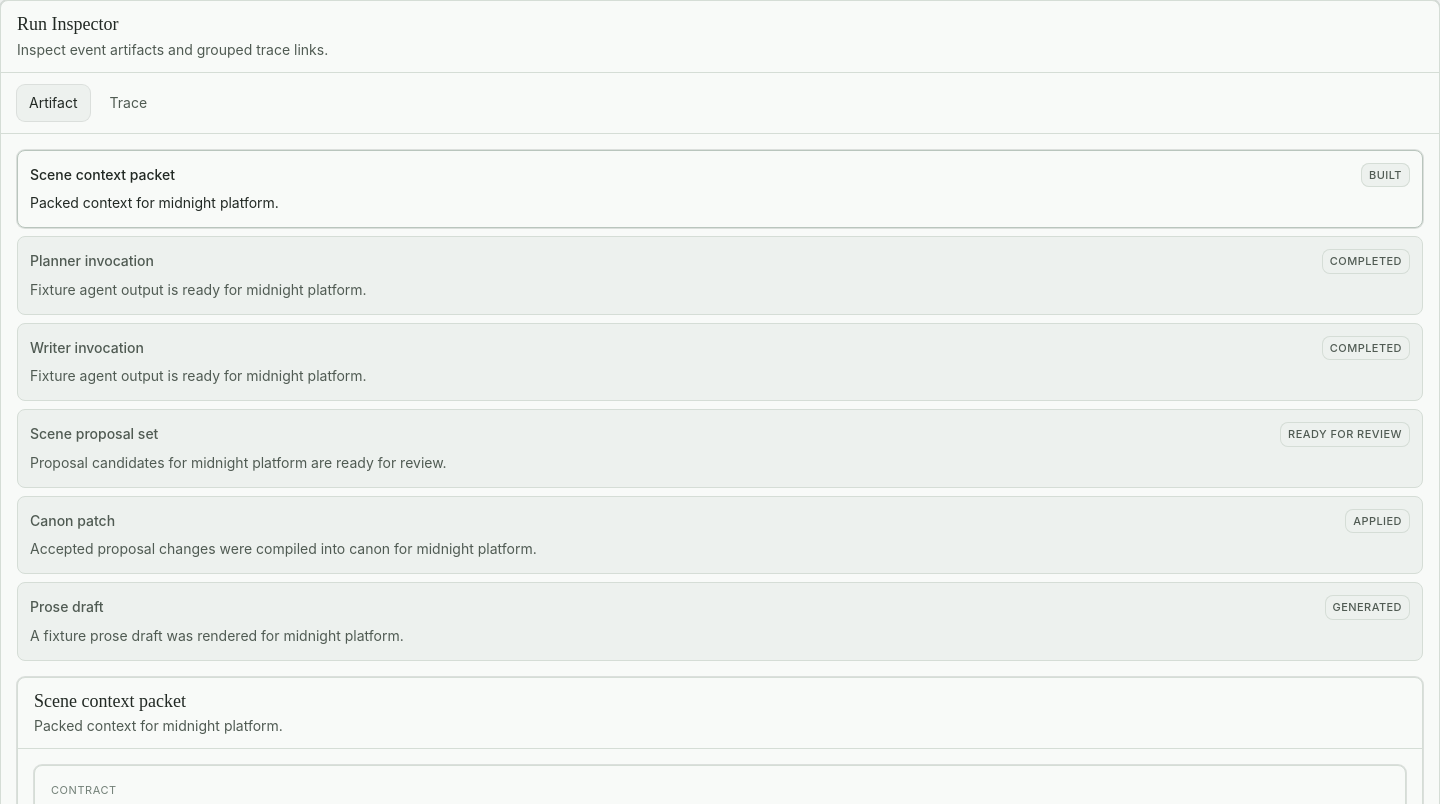
Scenario: RunEventInspectorPanel › keeps the artifact list accessible while an artifact detail is selected
Expected: the heading "Scene context packet" is shown, [34,690,186,710]
Click the button "Canon patch" at (73, 520), box [17,496,1423,574]
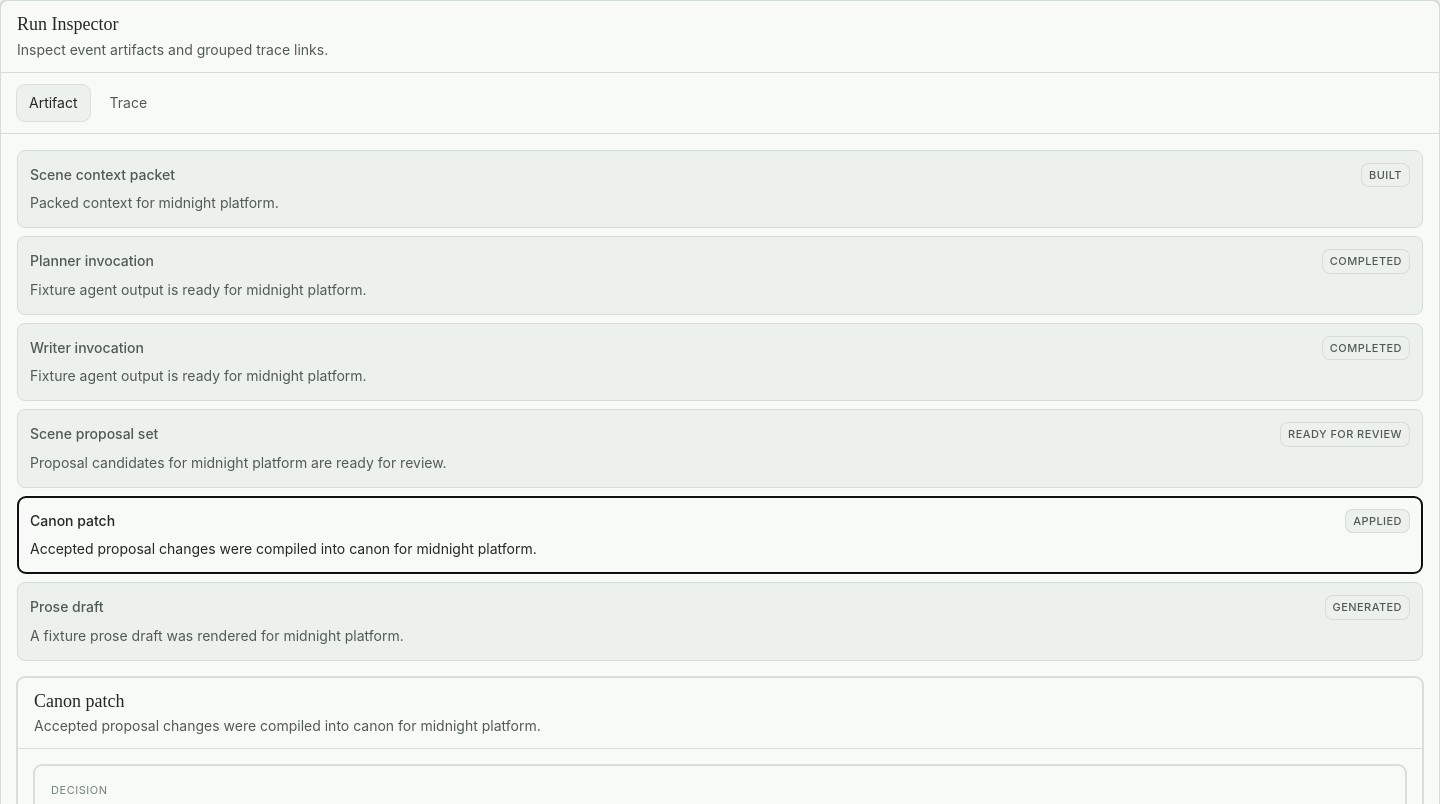
Expected: the button "Prose draft" is shown, [17,582,1423,660]
Result: the heading "Canon patch" is shown at [34,690,124,710]
